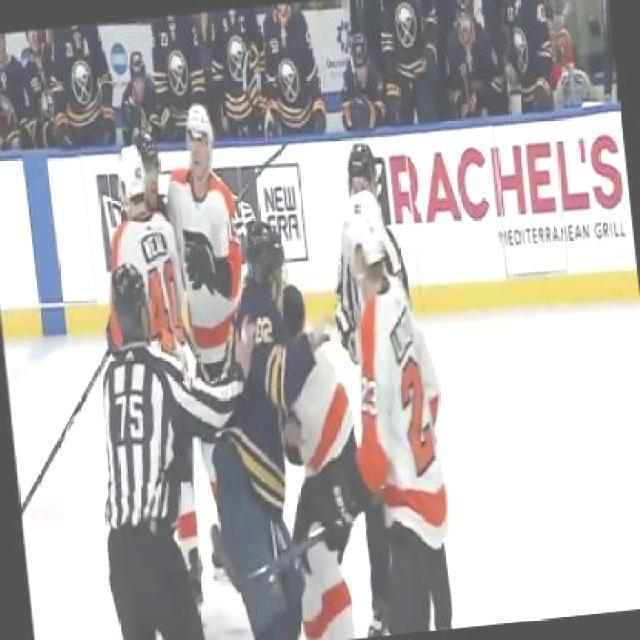fight: (178, 210, 378, 638)
non-fight: (332, 187, 466, 635)
